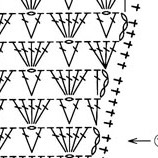chain: (151, 134, 158, 147)
enseble_chain: (23, 36, 59, 73), (63, 66, 98, 102), (26, 94, 60, 131), (88, 54, 114, 100), (62, 9, 96, 44), (65, 121, 97, 158), (6, 92, 35, 130), (44, 66, 73, 101), (45, 8, 73, 42), (22, 125, 51, 157), (59, 39, 88, 71), (23, 11, 51, 43), (9, 38, 36, 71), (24, 68, 51, 100), (110, 12, 135, 44), (102, 9, 125, 43), (83, 92, 103, 128), (54, 96, 76, 127), (85, 127, 105, 152), (96, 40, 113, 68), (128, 132, 154, 149), (61, 126, 77, 153)
fan: (61, 69, 78, 96)
